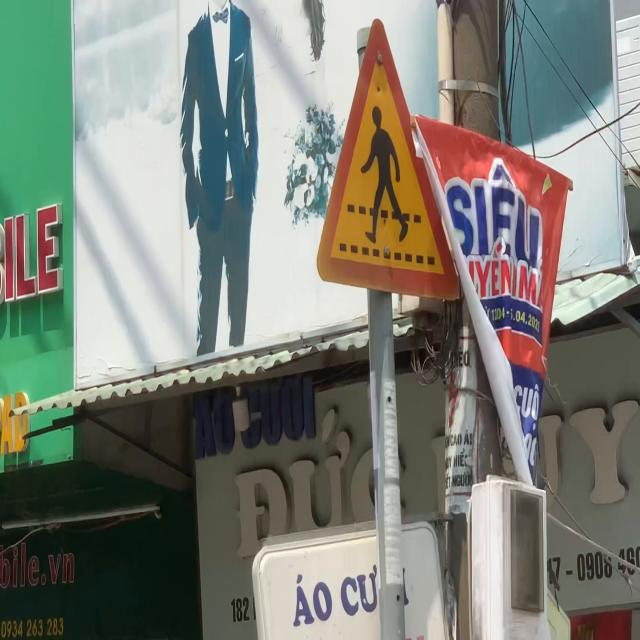Nguoi di bo cat ngang: (313, 0, 464, 310)
